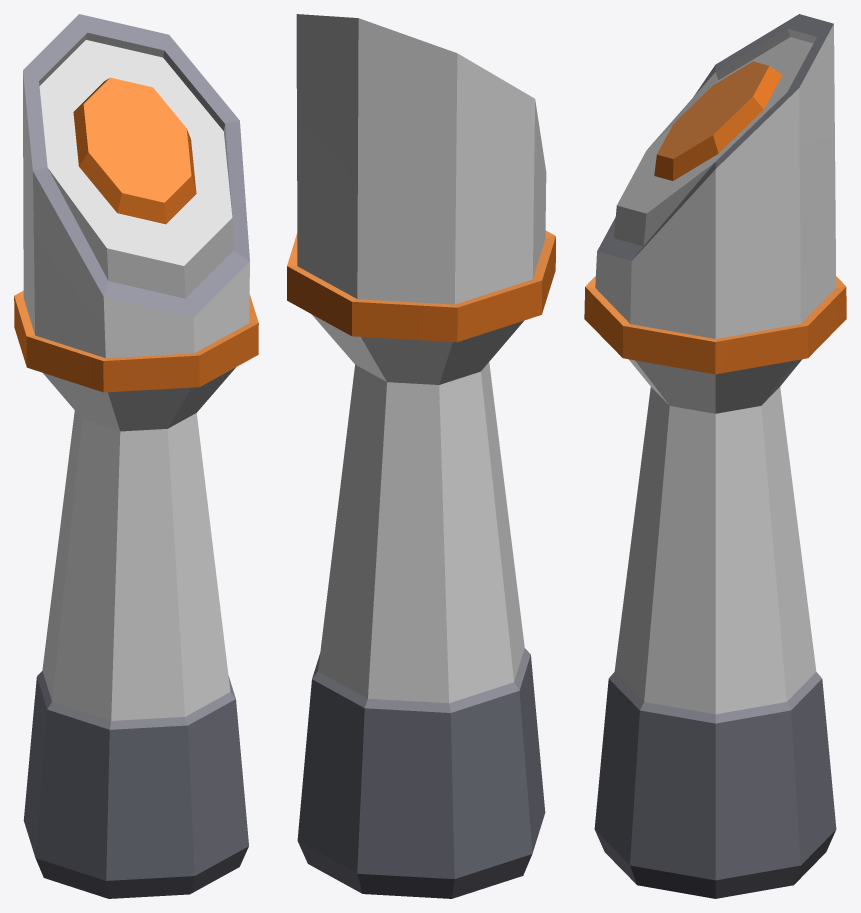
Rendered from ButtonPanel_01.gltf.
3 views of the same model, side by side, from view 1: azimuth 30°, elevation 25°; view 2: azimuth 150°, elevation 25°; view 3: azimuth 270°, elevation 25° (orthographic). The views are drawn at different scales.
Parts seen in each view (by area): view 1: ButtonPanel_01; view 2: ButtonPanel_01; view 3: ButtonPanel_01.
Part boxes in pixels (<box>): ButtonPanel_01: <box>14,14,258,898</box>; ButtonPanel_01: <box>287,14,555,898</box>; ButtonPanel_01: <box>584,14,846,898</box>.
Size of what is drawn, in the model's own units: 0.3288 by 1.14 by 0.328.
Materials: 1 (1 with a texture image).
